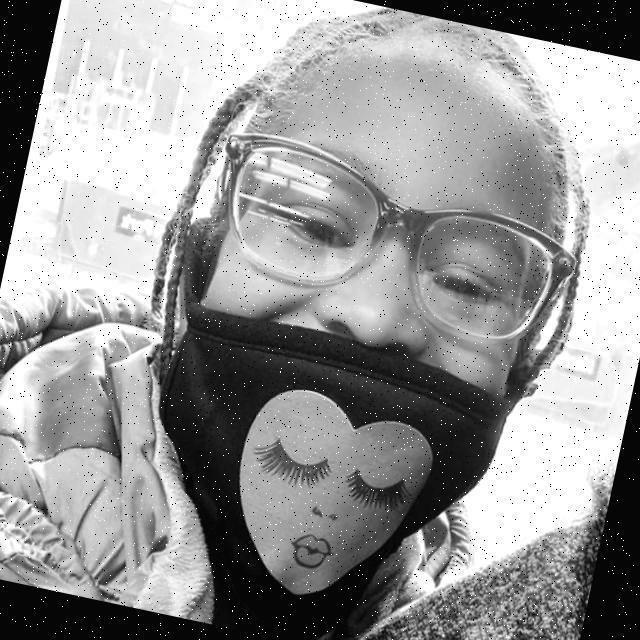hairnet: (172, 238, 506, 557)
